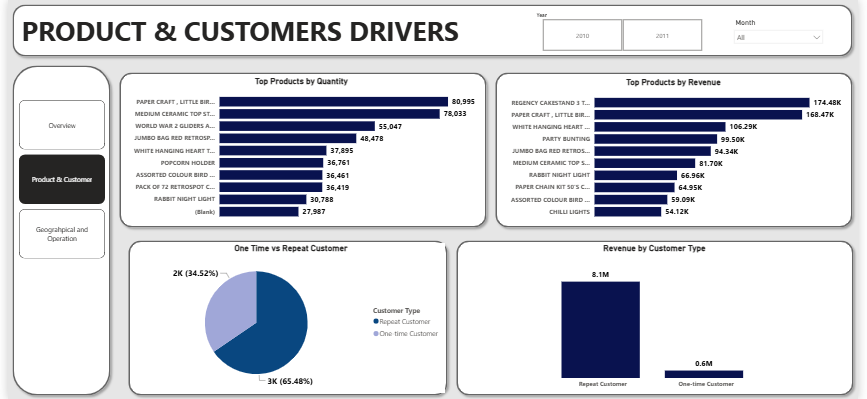

The dashboard page shown, as its layout file describes it:
{"tool":"powerbi","page":{"name":"Product & Customer","canvas":[1700,800],"ordinal":1},"visuals":[{"type":"shape","box":[888,472,812,328],"z":0},{"type":"shape","box":[966,136,732,328],"z":1000},{"type":"shape","box":[214,136,752,328],"z":2000},{"type":"clusteredBarChart","title":"Top Products by Revenue","fields":{"Category":["Table1.Description"],"Y":["Table1.Total Revenue"]},"box":[990,154,682,294],"z":3000},{"type":"clusteredBarChart","title":"Top Products by Quantity","fields":{"Category":["Table1.Description"],"Y":["Table1.Total Quantity"]},"box":[234,152,706,296],"z":4000},{"type":"shape","box":[0,0,1698,122],"z":5000},{"type":"shape","box":[0,122,214,678],"z":6000},{"type":"shape","box":[214,472,674,328],"z":7000},{"type":"pieChart","title":"One Time vs Repeat Customer","fields":{"Y":["Table1.Customer Count"],"Category":["Table1.Customer Type"]},"box":[234,486,630,300],"z":8000},{"type":"columnChart","fields":{"Category":["Table1.Customer Type"],"Y":["Table1.Revenue"]},"box":[916,486,754,300],"z":9000},{"type":"textbox","box":[22,18,1084,88],"z":10000},{"type":"slicer","fields":{"Values":["Calendar.Month"]},"box":[1442,32,198,64],"z":12000},{"type":"pageNavigator","box":[24,168,168,468],"z":13000},{"type":"slicer","fields":{"Values":["Calendar.Year"]},"box":[1186,30,256,66],"z":13001}]}

Visuals, with their boxes in screenshot pixels (x1, y1, x2, y2), scaled from the page's 1700x800 canvas onto the 867x399 screenshot:
shape: detection(453, 235, 866, 398)
shape: detection(493, 68, 866, 231)
shape: detection(109, 68, 493, 231)
"Top Products by Revenue" clusteredBarChart: detection(505, 77, 853, 223)
"Top Products by Quantity" clusteredBarChart: detection(119, 76, 479, 223)
shape: detection(0, 0, 866, 61)
shape: detection(0, 61, 109, 398)
shape: detection(109, 235, 453, 398)
"One Time vs Repeat Customer" pieChart: detection(119, 242, 441, 392)
columnChart - Table1.Customer Type x Table1.Revenue: detection(467, 242, 852, 392)
textbox: detection(11, 9, 564, 53)
slicer - Calendar.Month: detection(735, 16, 836, 48)
pageNavigator: detection(12, 84, 98, 317)
slicer - Calendar.Year: detection(605, 15, 735, 48)
